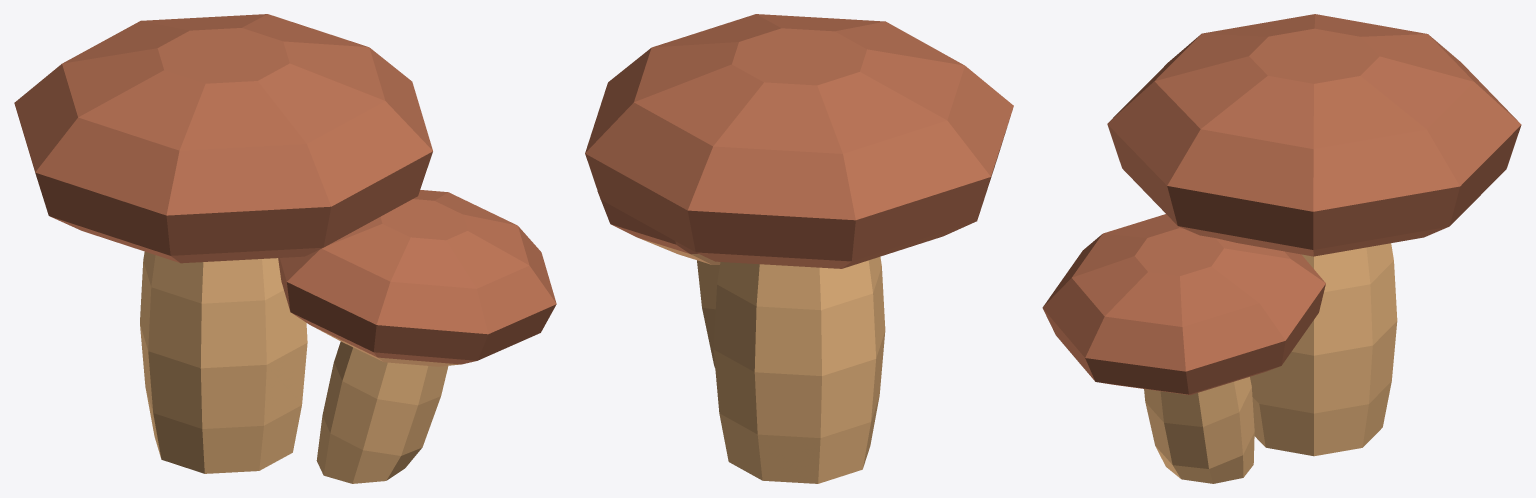
File: Mushroom 07.fbx
The picture shows the model from 3 angles, left to right: view 1: azimuth 30°, elevation 25°; view 2: azimuth 150°, elevation 25°; view 3: azimuth 270°, elevation 25°; orthographic projection. The views are drawn at different scales.
Visible parts, largest first — view 1: Mushroom 07; view 2: Mushroom 07; view 3: Mushroom 07.
Part boxes in pixels (left/top/right/bottom): Mushroom 07: left=14, top=14, right=556, bottom=483; Mushroom 07: left=585, top=14, right=1013, bottom=483; Mushroom 07: left=1042, top=14, right=1521, bottom=483.
Bounding box in the file's own units: 23.24 × 19.69 × 23.04.
